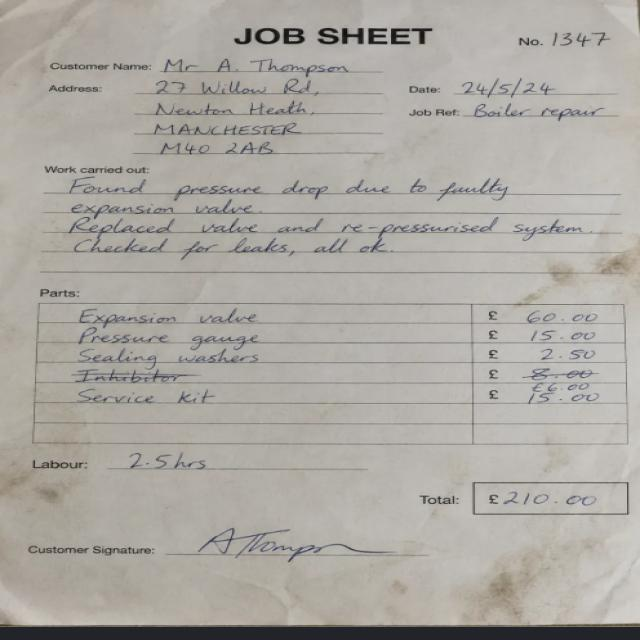address: (34, 74, 392, 158)
date: (415, 74, 619, 106)
items: (34, 302, 622, 436)
shop: (188, 13, 482, 54)
tot: (418, 472, 638, 523)
